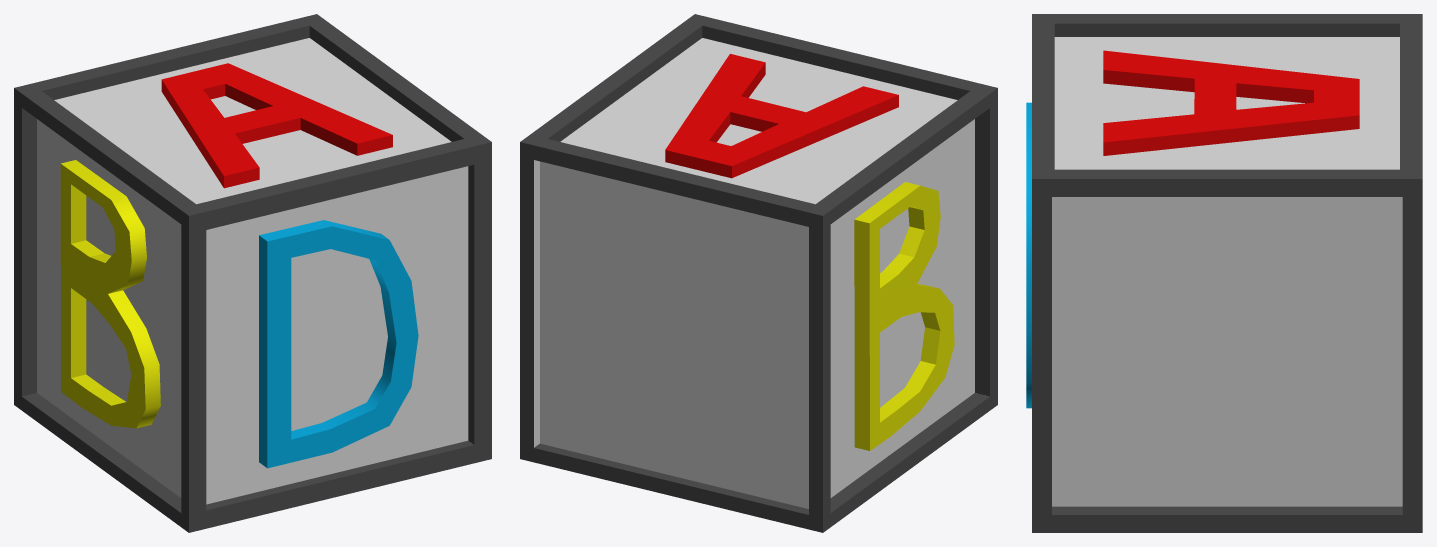
The model's file is SM_LetterCube.fbx.
The picture shows the model from 3 angles, left to right: view 1: azimuth 30°, elevation 25°; view 2: azimuth 150°, elevation 25°; view 3: azimuth 270°, elevation 25°; orthographic projection. The views are drawn at different scales.
Parts seen in each view (by area): view 1: LetterCube; view 2: LetterCube; view 3: LetterCube.
Boxes of the visible parts, x1=… form: LetterCube: x1=14, y1=14, x2=491, y2=532; LetterCube: x1=520, y1=14, x2=997, y2=532; LetterCube: x1=1026, y1=14, x2=1422, y2=532.
Bounding box in the file's own units: 24.8 × 24.8 × 25.16.
